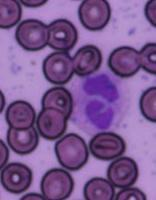N: (68, 68, 131, 134)
